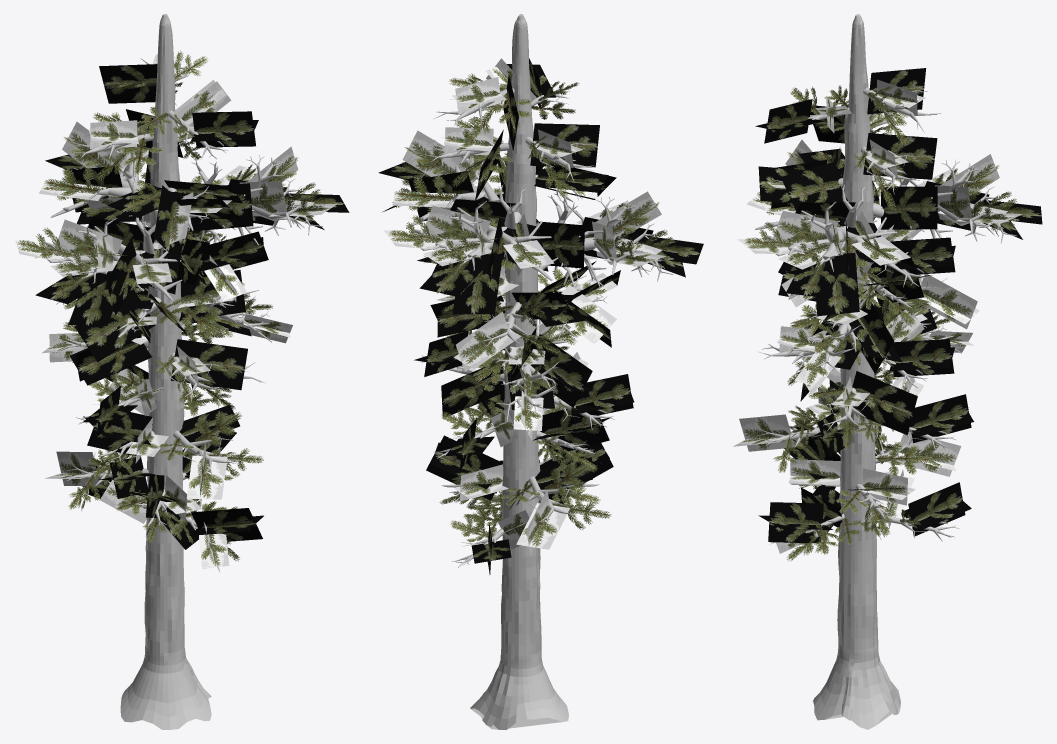
Rendered from pinetree.fbx.
The picture shows the model from 3 angles, left to right: view 1: azimuth 30°, elevation 25°; view 2: azimuth 150°, elevation 25°; view 3: azimuth 270°, elevation 25°; orthographic projection.
Visible parts, largest first — view 1: PineTree; view 2: PineTree; view 3: PineTree.
Boxes of the visible parts, x1=… form: PineTree: x1=15, y1=14, x2=349, y2=729; PineTree: x1=378, y1=14, x2=703, y2=729; PineTree: x1=733, y1=14, x2=1042, y2=729.
Size of the model in its own units: 451 by 968 by 392.
